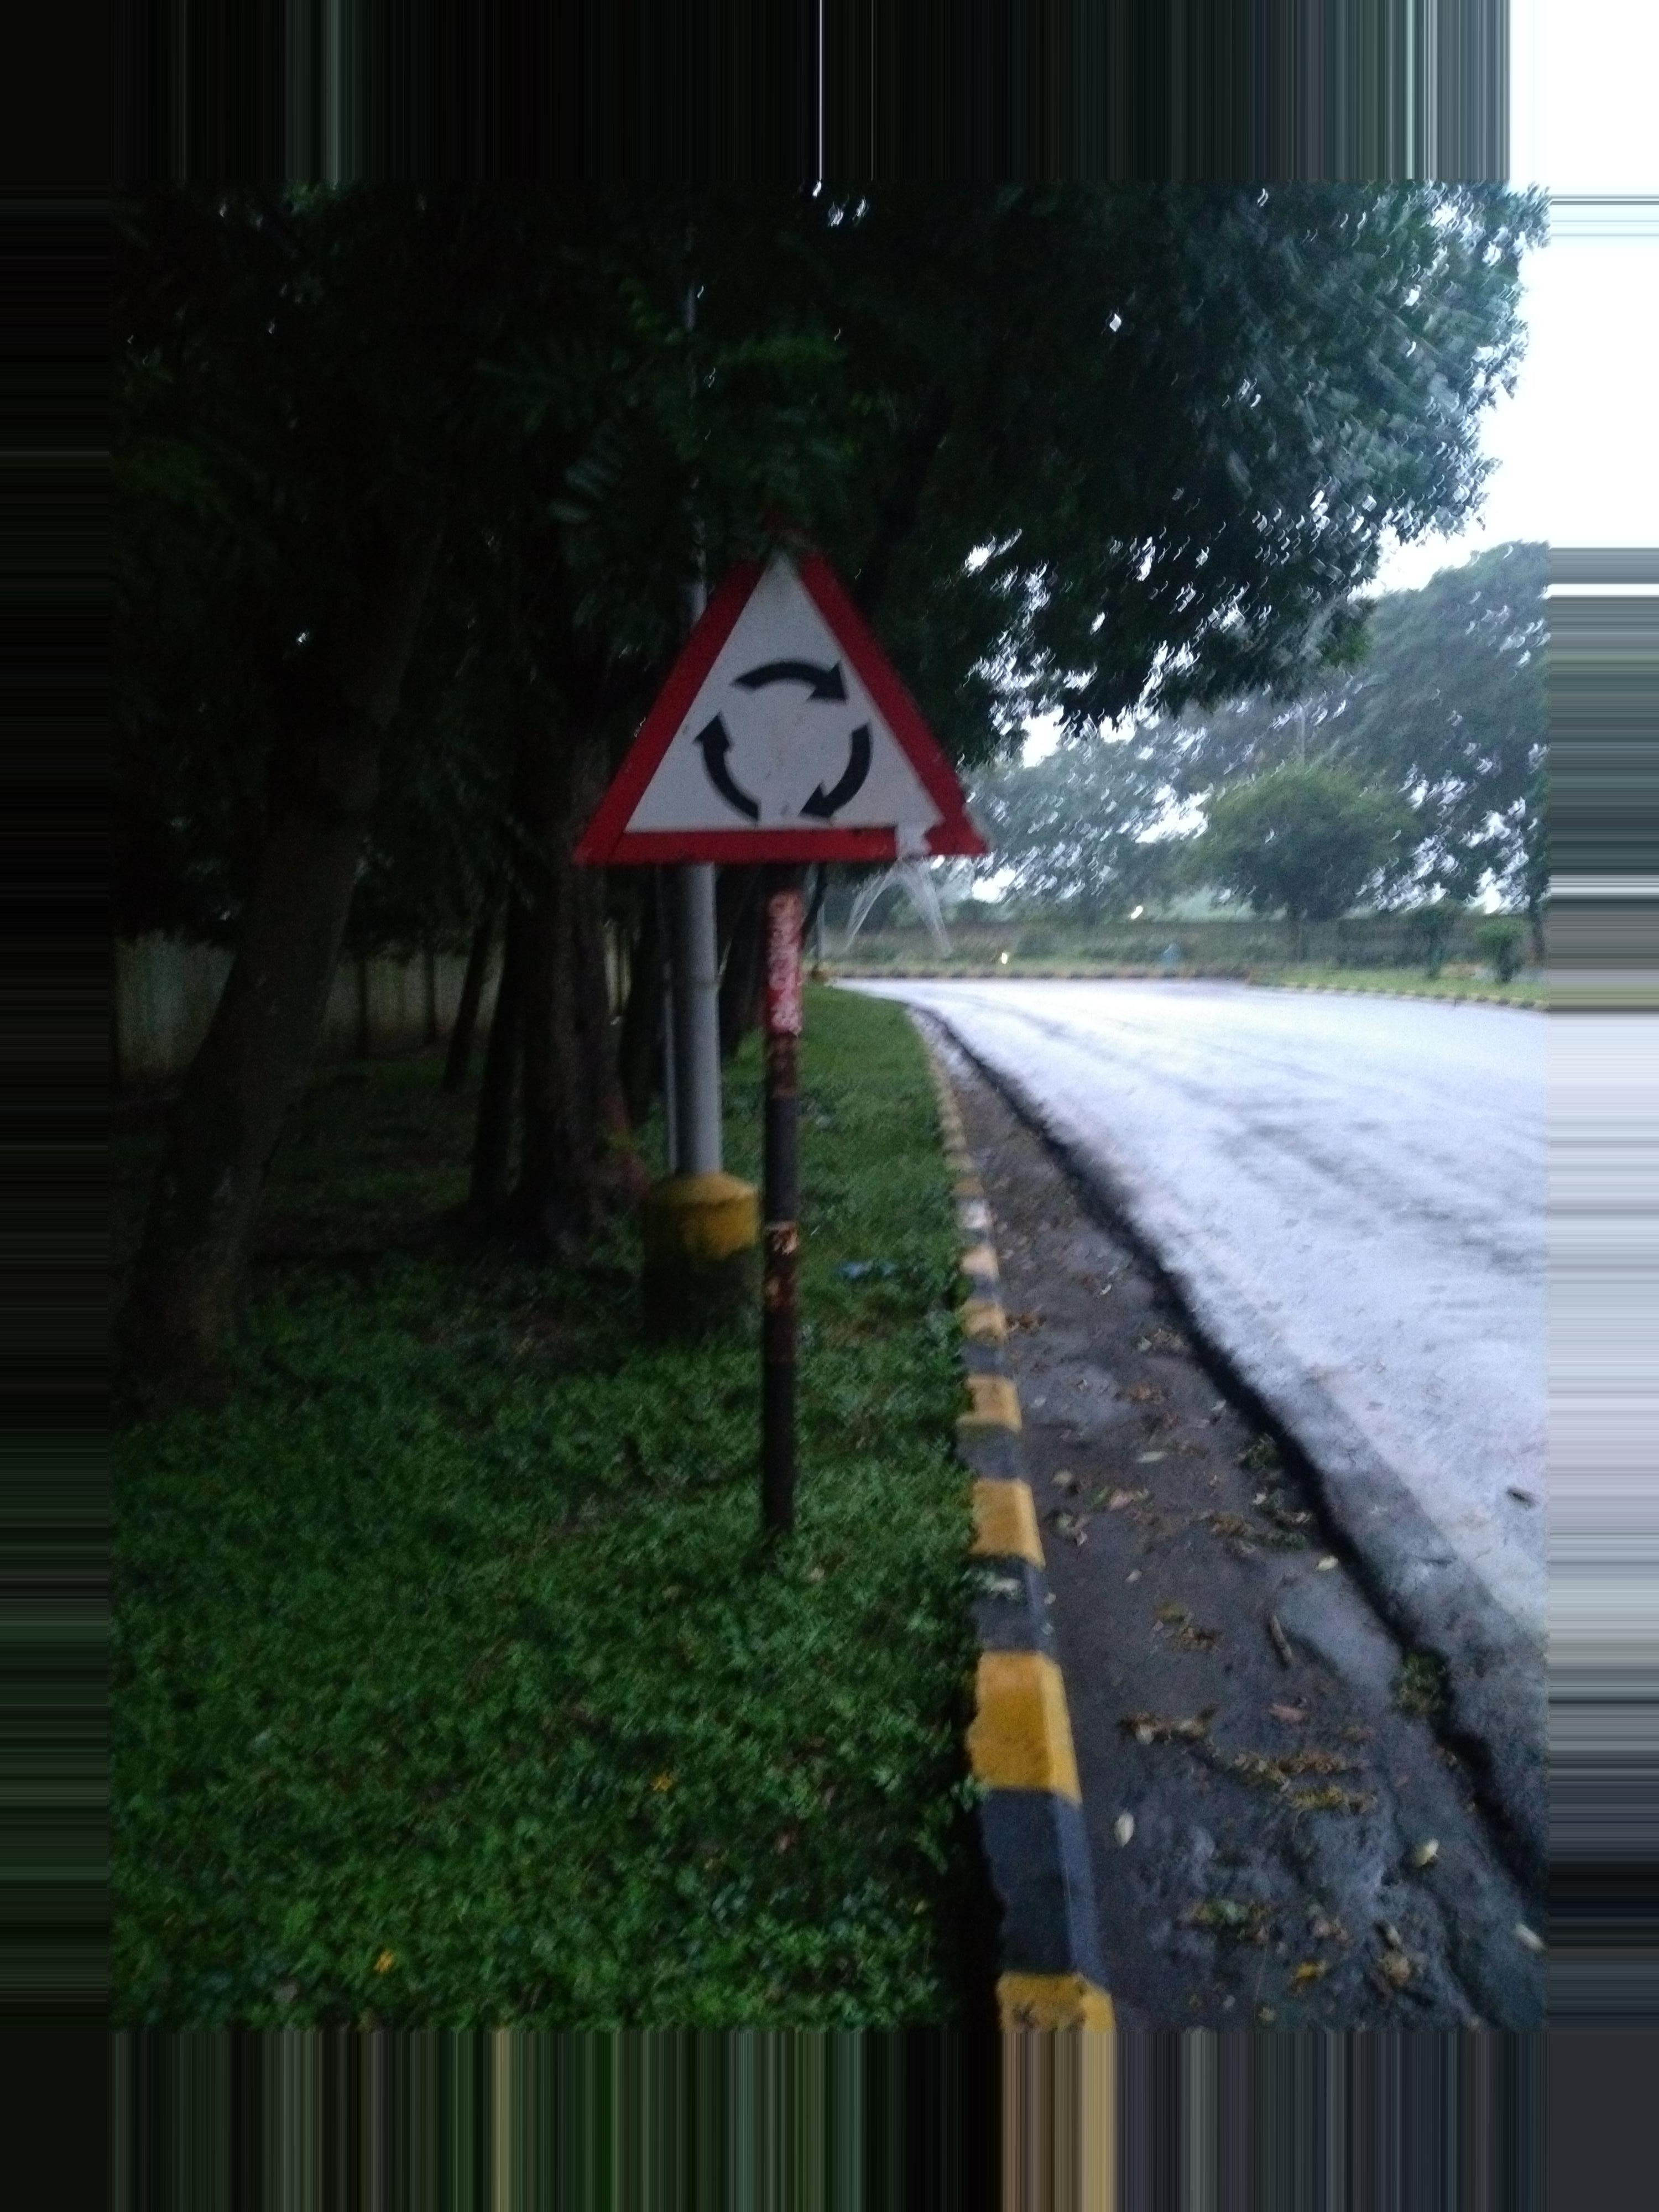Crossroad: (333, 918, 751, 1440)
